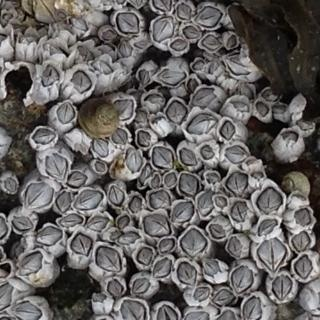Barnacle: (257, 237, 286, 272), (31, 0, 66, 27), (181, 225, 205, 259), (256, 186, 282, 215), (25, 183, 53, 209), (95, 246, 122, 272), (143, 212, 170, 238), (227, 53, 254, 76), (187, 112, 218, 132), (46, 153, 67, 181), (13, 300, 42, 320), (20, 251, 44, 275), (175, 261, 198, 286), (196, 7, 223, 28), (70, 232, 94, 255), (70, 70, 93, 94), (73, 191, 102, 210), (120, 299, 146, 320), (232, 266, 253, 292), (227, 172, 249, 196), (116, 12, 139, 34), (113, 100, 135, 122), (152, 16, 174, 38), (172, 200, 193, 223), (180, 172, 200, 196), (224, 145, 250, 163), (153, 147, 174, 169), (244, 295, 262, 320), (273, 275, 291, 300), (38, 227, 63, 245), (149, 190, 171, 210), (167, 100, 186, 123), (295, 253, 312, 278), (197, 190, 214, 215), (192, 89, 217, 106), (212, 289, 234, 308), (161, 68, 184, 85), (40, 65, 58, 86), (0, 282, 13, 311), (126, 151, 143, 173), (57, 101, 74, 123), (153, 258, 171, 278), (92, 138, 110, 158), (292, 231, 309, 252), (231, 202, 248, 223), (156, 305, 179, 320), (33, 128, 56, 143), (93, 60, 113, 77), (12, 215, 34, 230), (260, 218, 278, 236), (294, 208, 311, 227), (178, 2, 194, 22), (138, 164, 153, 185), (88, 216, 110, 230), (181, 148, 198, 166), (56, 191, 71, 211), (202, 36, 222, 51), (110, 184, 124, 205), (133, 277, 151, 293), (137, 247, 153, 265), (44, 43, 66, 56), (204, 259, 219, 278), (297, 116, 316, 131), (228, 237, 242, 257), (68, 172, 85, 188), (110, 128, 127, 144), (153, 0, 171, 15), (193, 287, 212, 301), (183, 26, 203, 39), (108, 280, 124, 296), (220, 121, 235, 138), (59, 215, 82, 226), (120, 39, 133, 58), (19, 31, 38, 44), (159, 238, 175, 253), (136, 131, 150, 147), (70, 17, 86, 31), (145, 93, 162, 106), (281, 129, 299, 141), (136, 70, 150, 85), (79, 46, 93, 61), (136, 107, 149, 123), (130, 195, 142, 212), (262, 90, 280, 101), (210, 225, 225, 238), (170, 38, 185, 51), (101, 30, 116, 43), (117, 215, 130, 229), (4, 177, 16, 192), (234, 99, 249, 111), (122, 232, 138, 243), (257, 102, 268, 118), (164, 173, 177, 186), (201, 146, 214, 159), (204, 173, 217, 185), (192, 58, 205, 70), (153, 117, 167, 128), (227, 34, 237, 49), (95, 162, 107, 174), (275, 105, 288, 116), (187, 78, 198, 91), (92, 291, 106, 301), (215, 196, 226, 208), (121, 62, 129, 76), (209, 63, 219, 74), (152, 175, 161, 187), (253, 171, 264, 180), (110, 231, 120, 240), (4, 11, 13, 20), (136, 39, 146, 47)
